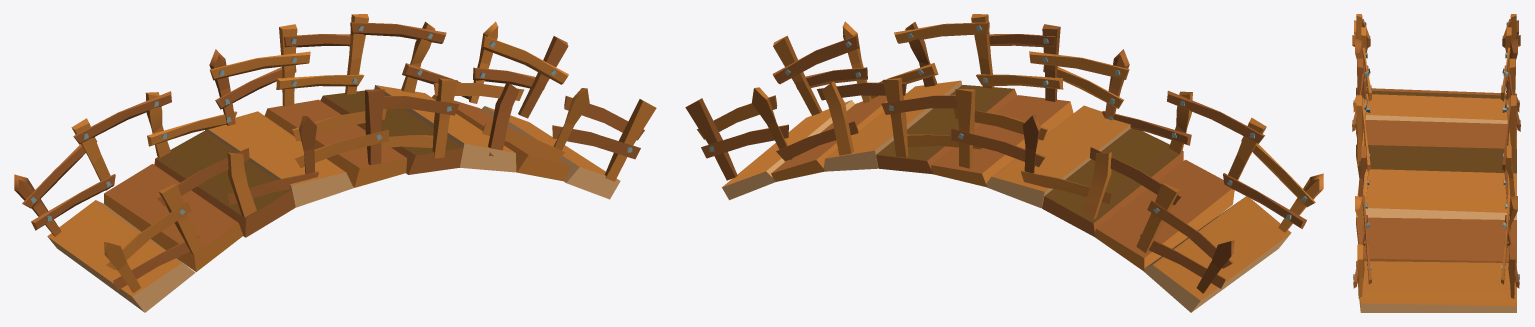
Rendered from SM_Pontecurvo.fbx.
3 renders of one model, left to right at view 1: azimuth 30°, elevation 25°; view 2: azimuth 150°, elevation 25°; view 3: azimuth 270°, elevation 25°, orthographic. The views are drawn at different scales.
Visible parts, largest first — view 1: SM_pontecurvo01; view 2: SM_pontecurvo01; view 3: SM_pontecurvo01.
Part boxes in pixels (left/top/right/bottom): SM_pontecurvo01: left=14, top=14, right=656, bottom=312; SM_pontecurvo01: left=685, top=14, right=1323, bottom=312; SM_pontecurvo01: left=1352, top=14, right=1520, bottom=312.
Bounding box in the file's own units: 428 × 125 × 128.
1 material, 1 textured.
